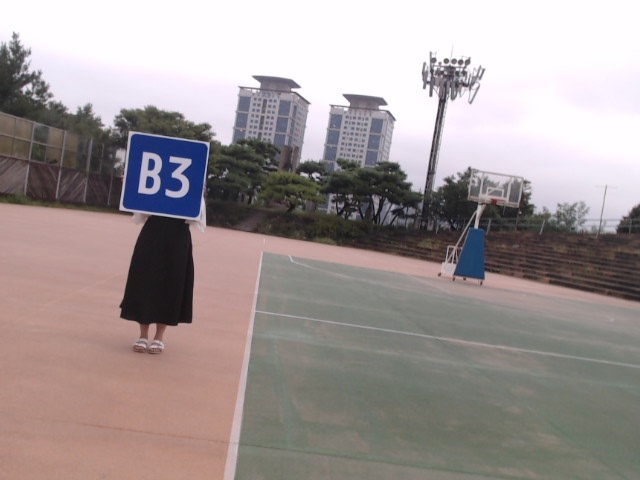delivery_b3: (122, 131, 208, 219)
